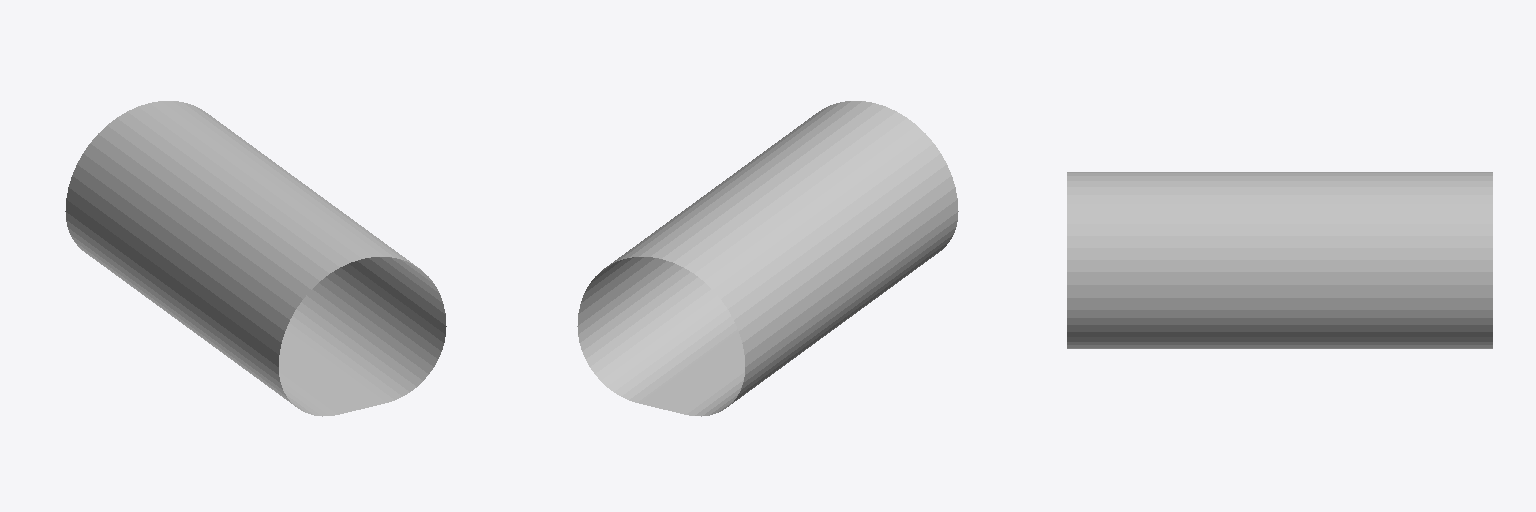
Rendered from kanal_2_mirror.obj.
3 renders of one model, left to right at view 1: azimuth 30°, elevation 25°; view 2: azimuth 150°, elevation 25°; view 3: azimuth 270°, elevation 25°, orthographic.
Visible parts, largest first — view 1: kanal_2_mirror_CUBezierCurve.008; view 2: kanal_2_mirror_CUBezierCurve.008; view 3: kanal_2_mirror_CUBezierCurve.008.
Boxes of the visible parts, box(x1,y1,x2,y2) form: kanal_2_mirror_CUBezierCurve.008: box(65, 101, 446, 416); kanal_2_mirror_CUBezierCurve.008: box(577, 101, 958, 416); kanal_2_mirror_CUBezierCurve.008: box(1067, 172, 1492, 348).
Bounding box in the file's own units: 4 × 3.42 × 8.79.